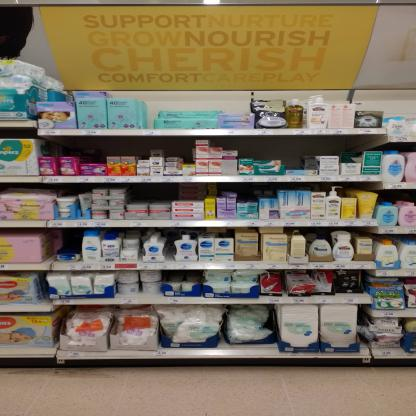Void: (238, 136, 275, 155), (315, 134, 351, 153), (283, 138, 305, 166), (113, 138, 147, 156), (137, 184, 175, 199), (166, 138, 193, 159), (82, 140, 104, 161), (63, 229, 80, 249), (56, 140, 75, 154), (166, 271, 200, 278), (244, 184, 255, 200)
